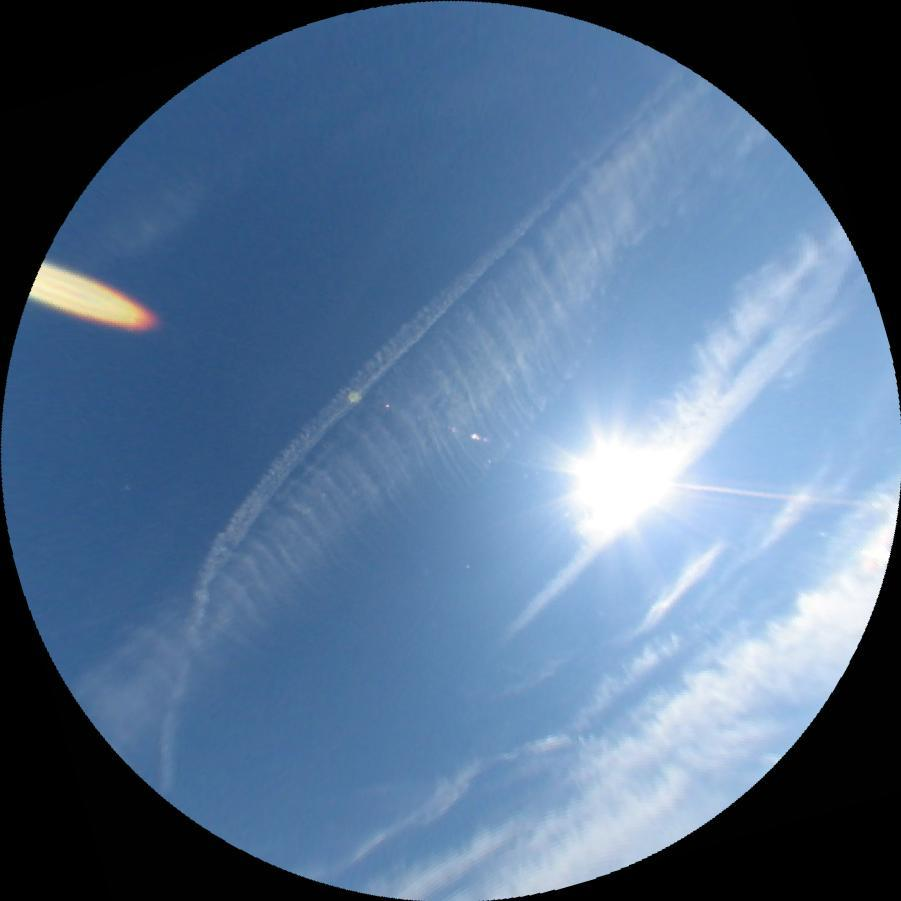contrail veryold: (59, 66, 801, 795), (75, 3, 689, 802), (495, 226, 873, 670), (559, 214, 829, 554)
parasite: (660, 480, 862, 507)
sun: (581, 449, 662, 518)
